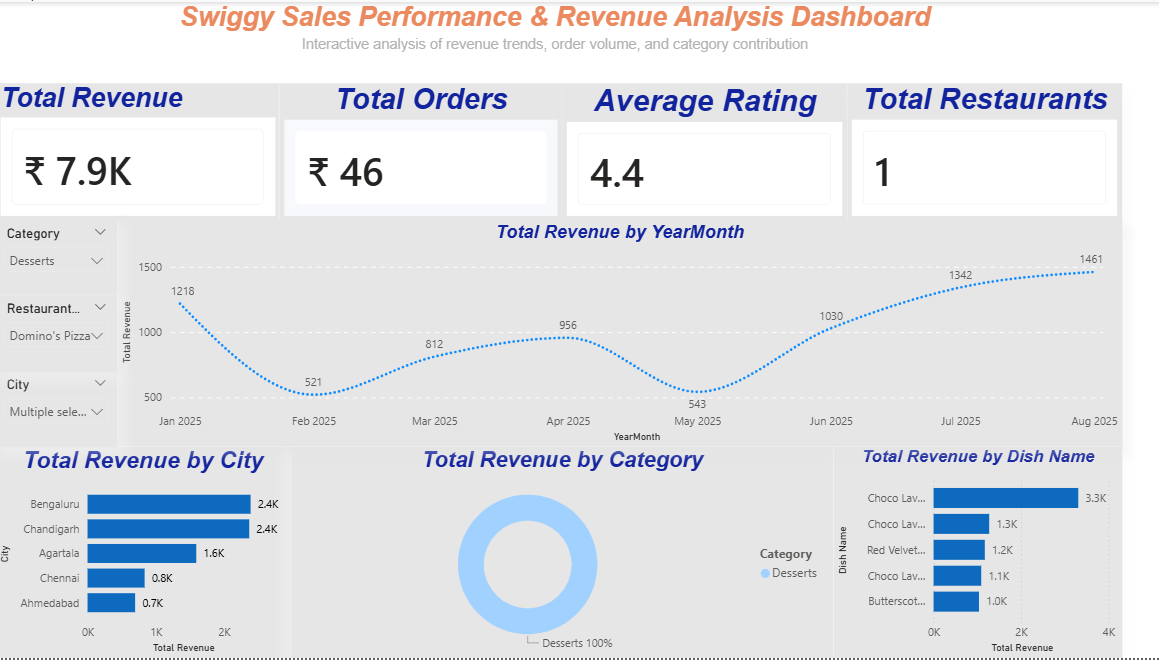

What the dashboard file says about the page in this screenshot:
{"tool":"powerbi","page":{"name":"Page 1","canvas":[1280,720],"ordinal":0},"visuals":[{"type":"cardVisual","title":"Total Revenue","fields":{"Data":["Table1.Total Revenue"]},"box":[1.4,89.2,311.5,150.9],"z":0},{"type":"cardVisual","title":"Total Orders ","fields":{"Data":["Data Table.Total Orders"]},"box":[312.9,89.2,310.1,150.9],"z":1000},{"type":"cardVisual","title":"Average Rating","fields":{"Data":["Data Table.Average Rating"]},"box":[623,89.2,312.9,150.9],"z":2000},{"type":"cardVisual","title":"Total Restaurants","fields":{"Data":["Data Table.Total Restaurents"]},"box":[935.9,89.2,301.9,150.9],"z":3000},{"type":"clusteredBarChart","fields":{"Category":["Table1.City"],"Y":["Table1.Total Revenue"]},"box":[0,488.5,325.2,231.9],"z":4000},{"type":"donutChart","fields":{"Category":["Table1.Category"],"Y":["Table1.Total Revenue"]},"box":[325.2,488.5,595.5,231.9],"z":5000},{"type":"clusteredBarChart","fields":{"Category":["Table1.Dish Name"],"Y":["Table1.Total Revenue"]},"box":[920.8,488.5,317,231.9],"z":6000},{"type":"lineChart","fields":{"Y":["Table1.Total Revenue"],"Category":["Data Table.YearMonth"]},"box":[134.5,240.1,1103.3,248.4],"z":7000},{"type":"slicer","fields":{"Values":["Table1.City"]},"box":[0,406.2,134.5,82.3],"z":8000},{"type":"slicer","fields":{"Values":["Table1.Category"]},"box":[0,240.1,134.5,82.3],"z":9000},{"type":"slicer","fields":{"Values":["Table1.Restaurant Name"]},"box":[0,322.5,134.5,83.7],"z":10000},{"type":"textbox","title":"Swiggy Sales Performance & Revenue Analysis Dashboard","box":[1.4,0,1226.8,86.4],"z":11000}]}

Visuals, with their boxes in screenshot pixels (x1, y1, x2, y2), scaled from the page's 1280x720 canvas onto the 1159x663 screenshot:
"Total Revenue" cardVisual: [1,82,283,221]
"Total Orders " cardVisual: [283,82,564,221]
"Average Rating" cardVisual: [564,82,847,221]
"Total Restaurants" cardVisual: [847,82,1121,221]
clusteredBarChart - Table1.City x Table1.Total Revenue: [0,450,294,662]
donutChart - Table1.Category x Table1.Total Revenue: [294,450,834,662]
clusteredBarChart - Table1.Dish Name x Table1.Total Revenue: [834,450,1121,662]
lineChart - Table1.Total Revenue x Data Table.YearMonth: [122,221,1121,450]
slicer - Table1.City: [0,374,122,450]
slicer - Table1.Category: [0,221,122,297]
slicer - Table1.Restaurant Name: [0,297,122,374]
"Swiggy Sales Performance & Revenue Analysis Dashboard" textbox: [1,0,1112,80]
